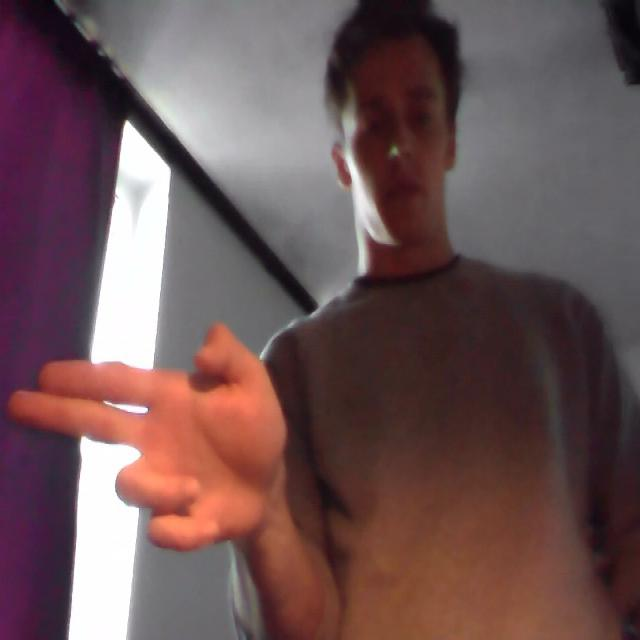left: (2, 304, 286, 550)
